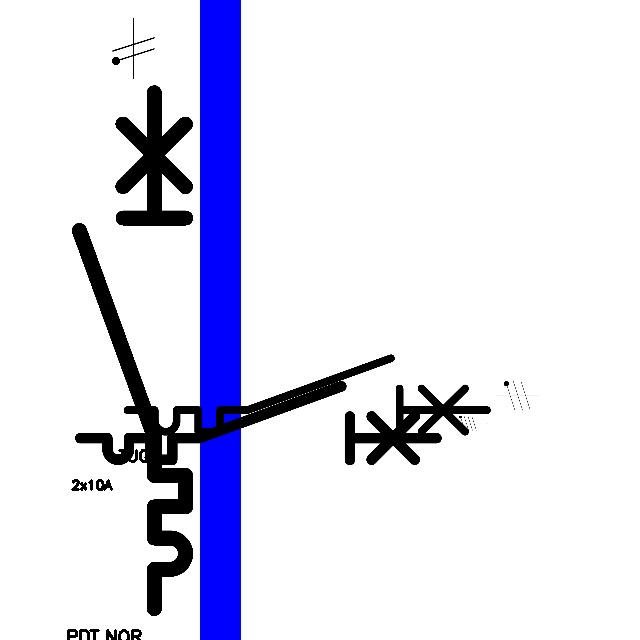interruptor_termomagnetico: (66, 79, 199, 621), (118, 349, 496, 441), (71, 377, 446, 469)
